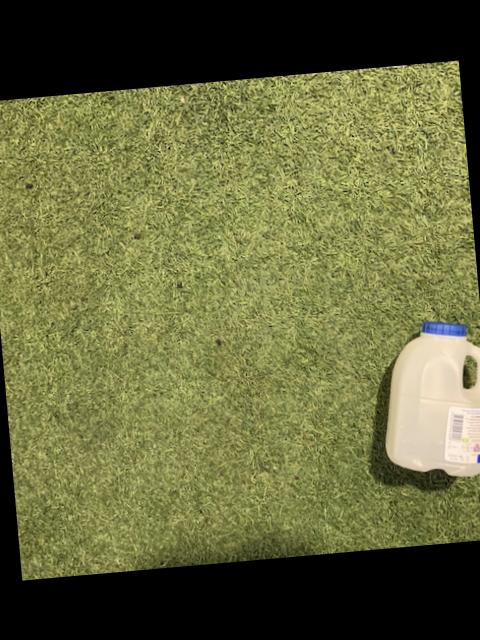plastic: (386, 323, 480, 477)
